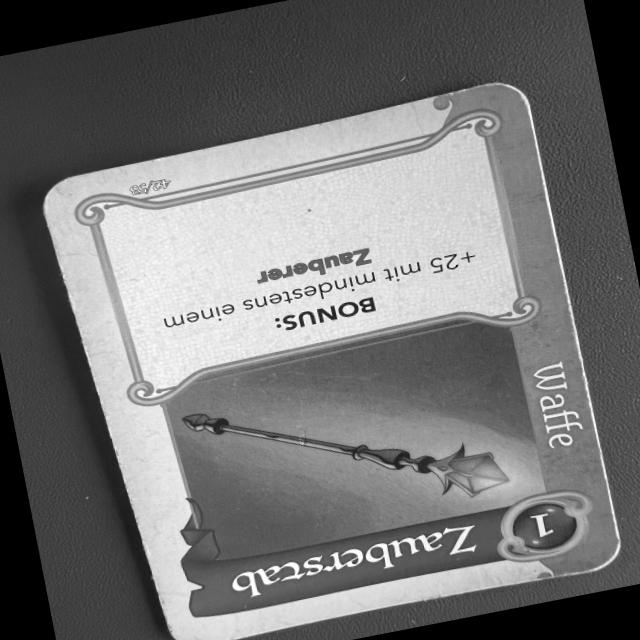Magic Wand: (36, 74, 620, 640)
